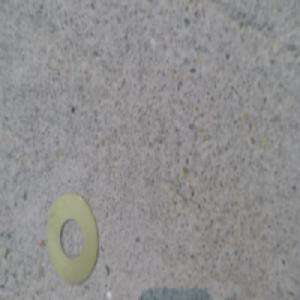Washer: (46, 195, 98, 283)
